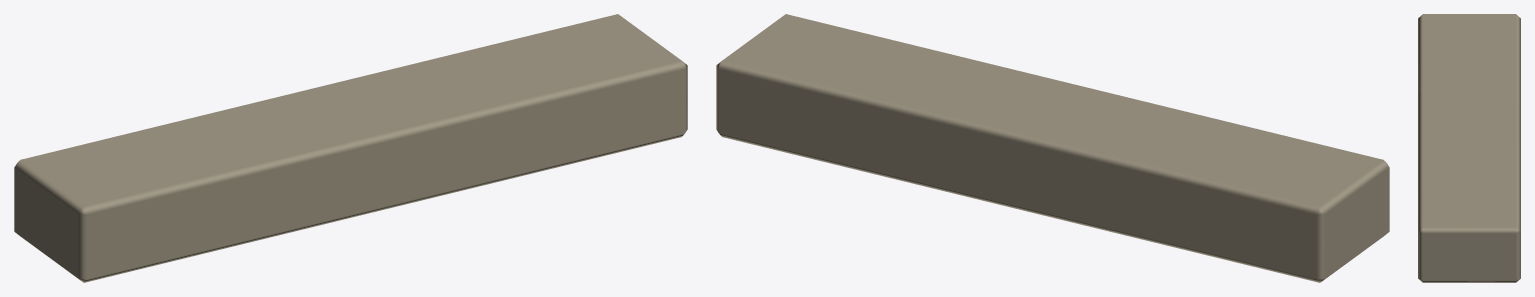
Rendered from stone-halls-cap.474d1f00.glb.
3 views of the same model, side by side, from view 1: azimuth 30°, elevation 25°; view 2: azimuth 150°, elevation 25°; view 3: azimuth 270°, elevation 25° (orthographic). The views are drawn at different scales.
Visible parts, largest first — view 1: body; view 2: body; view 3: body.
Part boxes in pixels (x1=…): body: x1=14, y1=14, x2=687, y2=282; body: x1=716, y1=14, x2=1389, y2=282; body: x1=1418, y1=14, x2=1520, y2=282.
Bounding box in the file's own units: 1 × 0.12 × 0.2.
